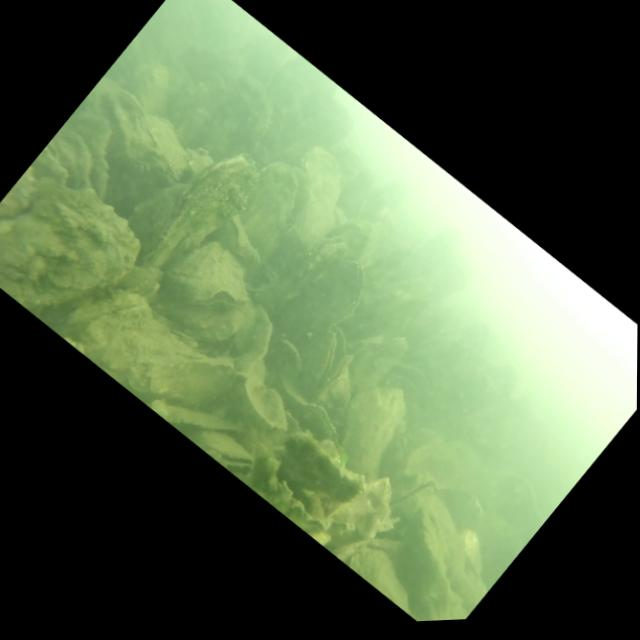Oyster-Closed: (0, 144, 156, 347), (133, 136, 270, 288), (86, 81, 207, 201), (272, 246, 378, 362), (63, 268, 156, 366), (337, 318, 415, 404), (226, 368, 302, 443), (288, 395, 355, 460)
Oyster-Indeterminate: (316, 367, 430, 488), (260, 141, 367, 256)
Oyster-Open: (206, 145, 328, 276), (249, 420, 368, 540), (157, 227, 264, 336), (257, 221, 352, 327), (286, 319, 365, 405), (378, 459, 447, 532), (189, 416, 258, 483), (211, 204, 279, 271), (314, 360, 367, 418)
